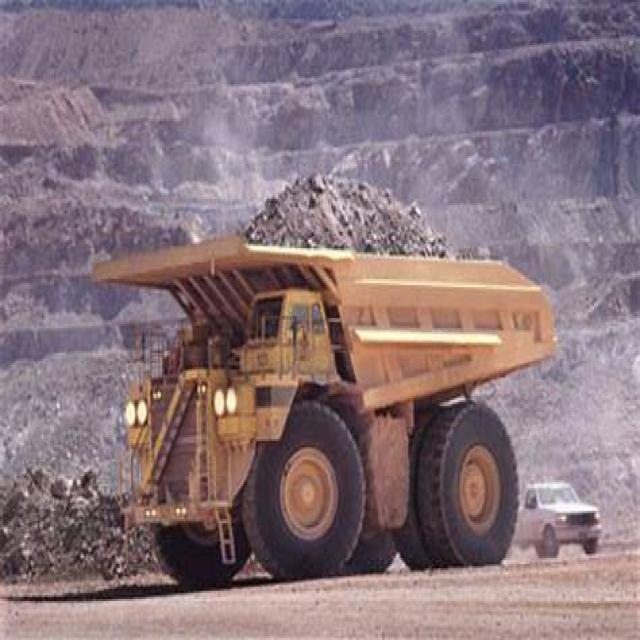dump_truck: (77, 144, 560, 605)
